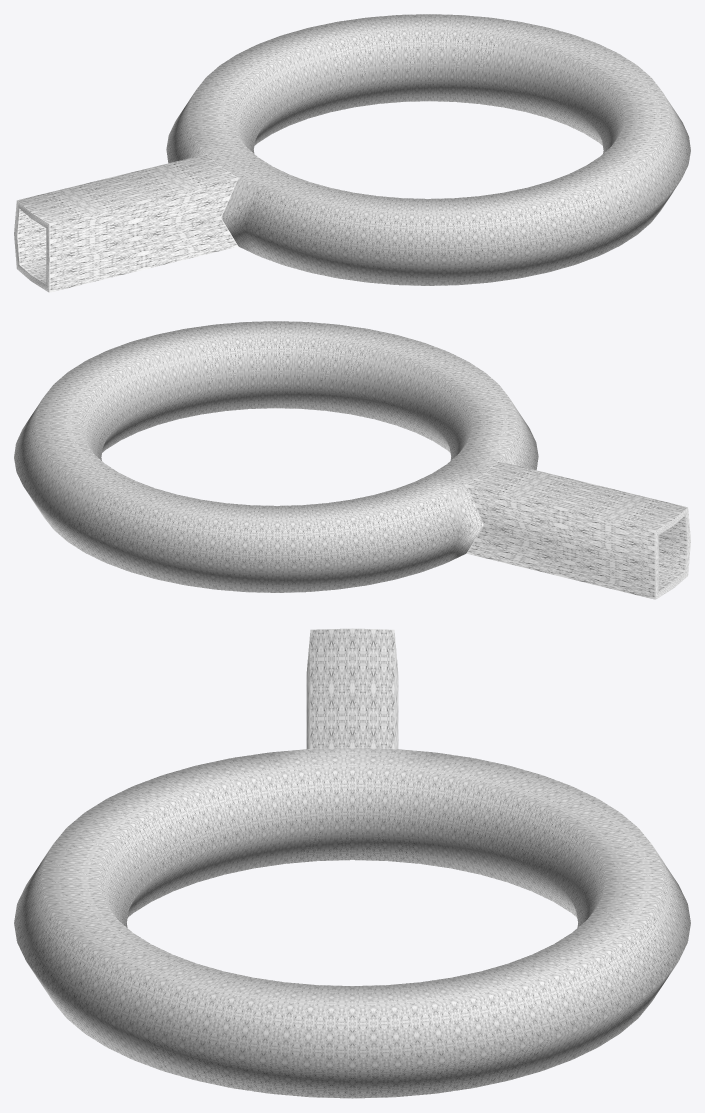
File: torus_space_station2.fbx
3 views of the same model, one above another, from view 1: azimuth 30°, elevation 25°; view 2: azimuth 150°, elevation 25°; view 3: azimuth 270°, elevation 25° (orthographic). The views are drawn at different scales.
Visible parts, largest first — view 1: BezierCircle; view 2: BezierCircle; view 3: BezierCircle.
Boxes of the visible parts, x1,y1,x2,y2 form: BezierCircle: [14, 14, 690, 292]; BezierCircle: [14, 321, 690, 599]; BezierCircle: [14, 628, 690, 1098].
Bounding box in the file's own units: 330 × 34.64 × 240.
